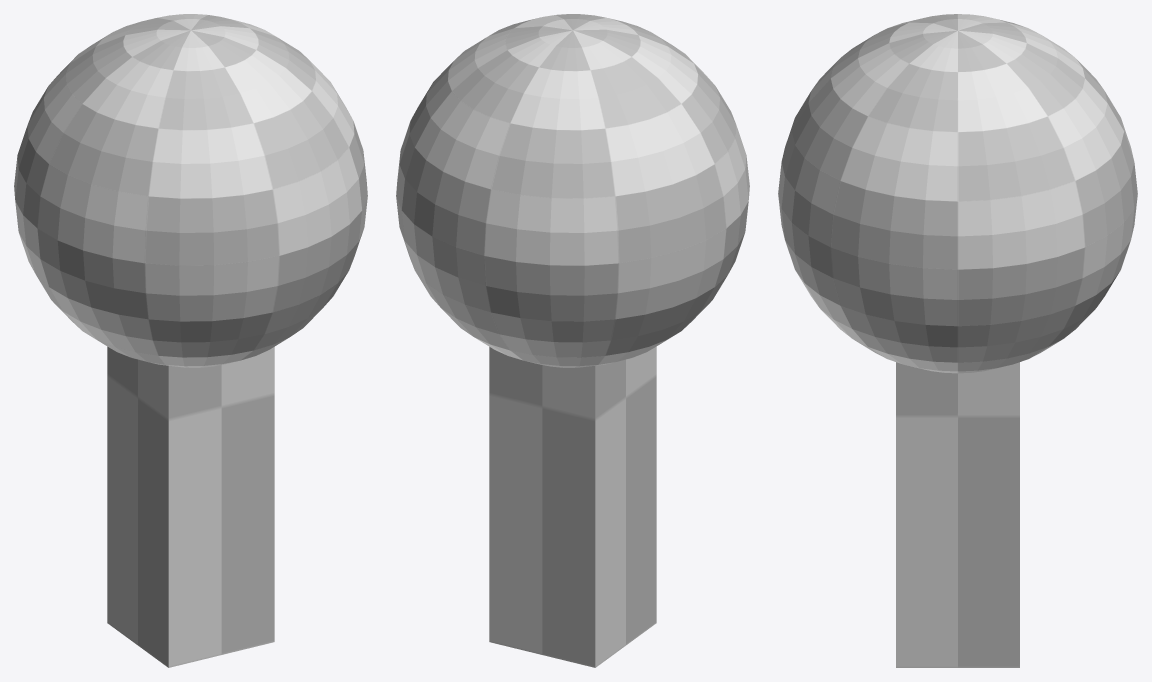
Rendered from SimpleTest.obj.
The picture shows the model from 3 angles, left to right: view 1: azimuth 30°, elevation 25°; view 2: azimuth 150°, elevation 25°; view 3: azimuth 270°, elevation 25°; orthographic projection.
Visible parts, largest first — view 1: Sphere, Cube; view 2: Sphere, Cube; view 3: Sphere, Cube.
Part boxes in pixels (<box>): Sphere: <box>14,14,367,367</box>; Cube: <box>107,346,274,667</box>; Sphere: <box>396,14,749,367</box>; Cube: <box>489,346,656,667</box>; Sphere: <box>778,14,1137,373</box>; Cube: <box>896,362,1019,667</box>.
Size of what is drawn, in the model's own units: 5.79 by 10.86 by 5.79.
Materials: 1 (1 with a texture image).
